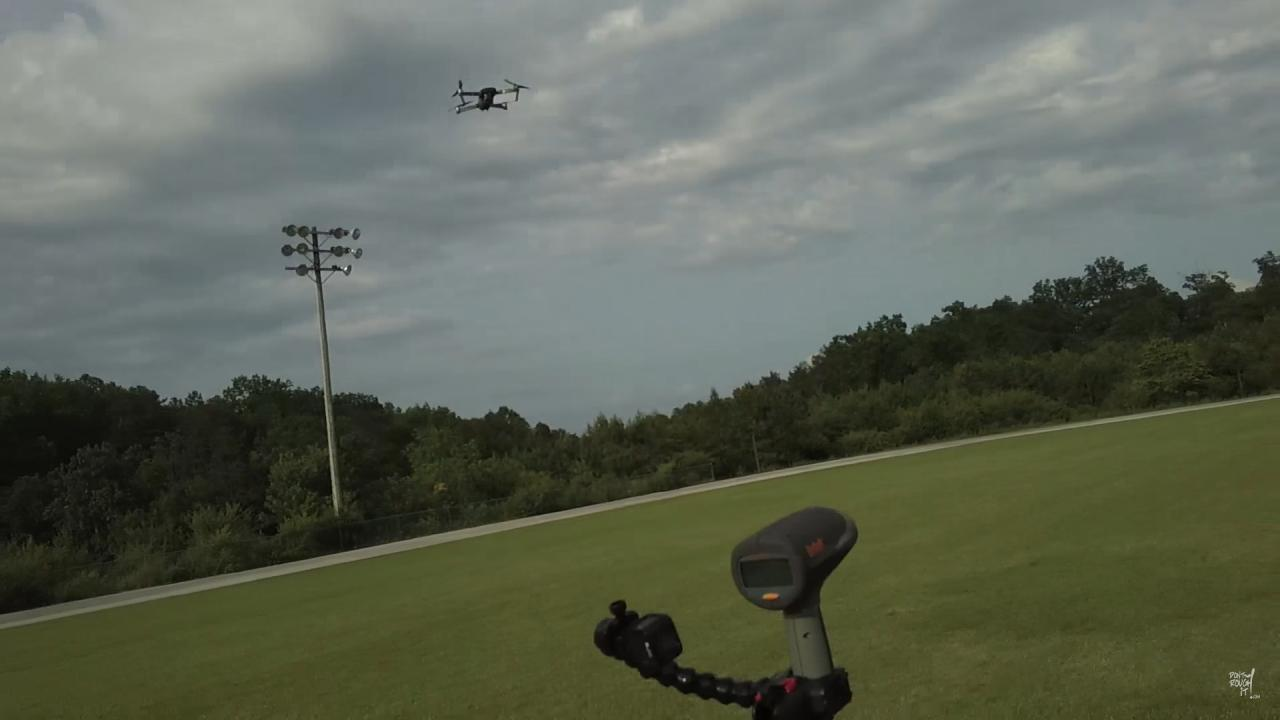Drone: (438, 67, 537, 126)
